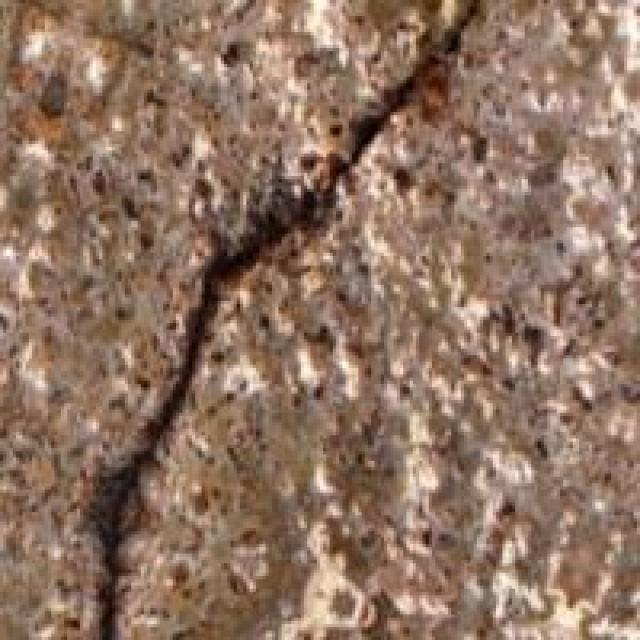Crack: (64, 3, 509, 637)
